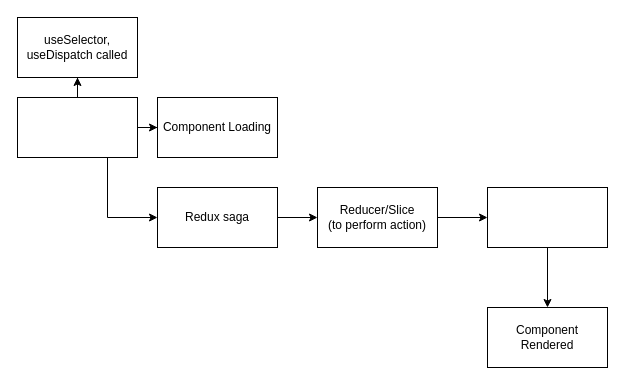
This 625x385 diagram has some shape labels left out. Each missing label, with the centre of its shape:
Component: point (77, 127)
Result stored in Store: point (547, 217)
